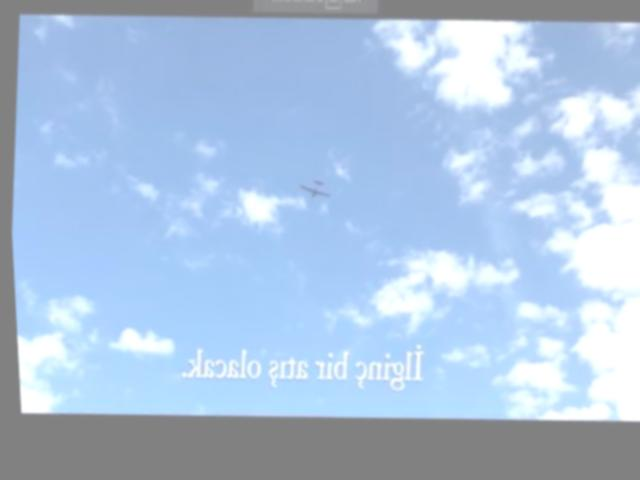uav: (292, 179, 334, 213)
